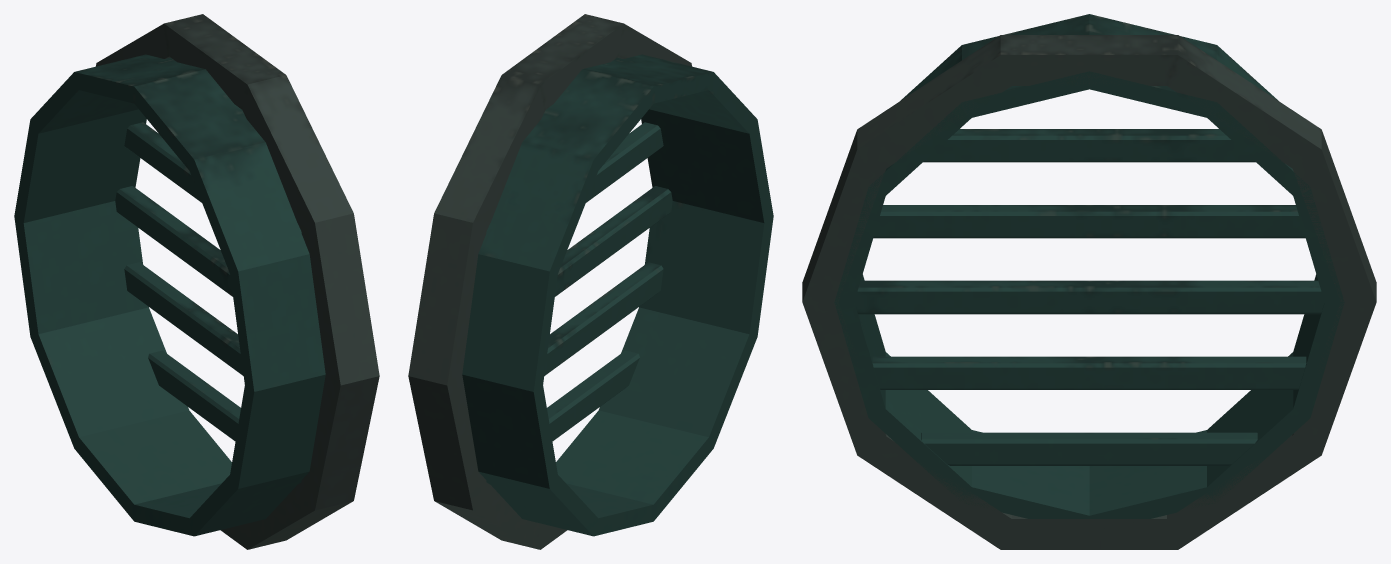
The model's file is duct_grille.glb.
3 views of the same model, side by side, from view 1: azimuth 30°, elevation 25°; view 2: azimuth 150°, elevation 25°; view 3: azimuth 270°, elevation 25° (orthographic). The views are drawn at different scales.
Parts seen in each view (by area): view 1: duct_grille; view 2: duct_grille; view 3: duct_grille.
Part boxes in pixels (bbox=[...]): duct_grille: bbox=[14, 14, 379, 549]; duct_grille: bbox=[408, 14, 773, 549]; duct_grille: bbox=[802, 14, 1376, 549].
Size of the model in its own units: 0.17 by 0.6848 by 0.72.
1 material, 1 textured.
